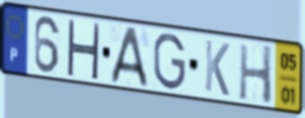6: (32, 14, 62, 76)
A: (108, 26, 151, 89)
G: (152, 32, 187, 92)
H: (237, 42, 275, 107), (65, 18, 102, 83)
K: (203, 37, 231, 99)
